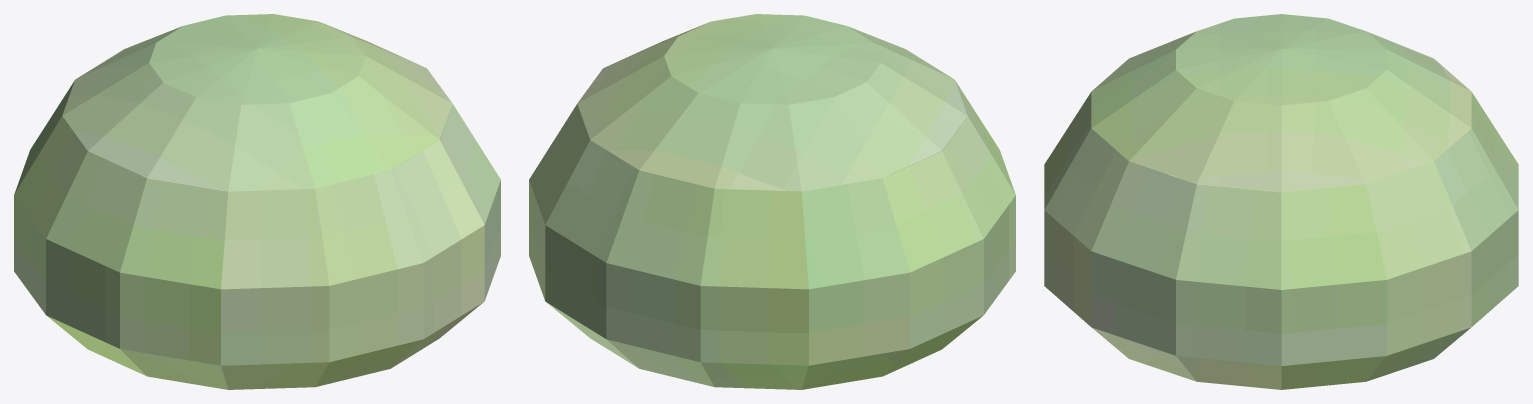
Rendered from slime_dough-optimized.glb.
3 renders of one model, left to right at view 1: azimuth 30°, elevation 25°; view 2: azimuth 150°, elevation 25°; view 3: azimuth 270°, elevation 25°, orthographic.
Parts seen in each view (by area): view 1: sphere; view 2: sphere; view 3: sphere.
Part boxes in pixels (box(x1,y1,x2,y2)): sphere: box(14, 14, 500, 389); sphere: box(529, 14, 1015, 389); sphere: box(1044, 14, 1518, 389).
Bounding box in the file's own units: 0.625 × 0.3909 × 0.6093.
1 material, 1 textured.
